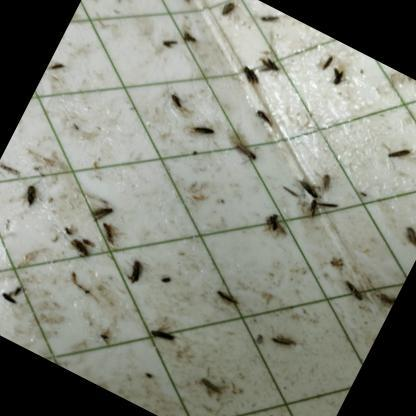prays_oleae: (220, 132, 264, 178), (256, 203, 295, 245), (264, 319, 302, 360), (379, 134, 415, 174), (334, 276, 370, 314), (192, 366, 227, 403), (186, 110, 220, 147), (144, 319, 178, 354), (212, 280, 245, 316), (17, 176, 48, 214), (63, 232, 98, 264), (252, 5, 284, 40), (313, 41, 340, 80), (324, 58, 351, 96), (160, 87, 191, 120), (84, 198, 113, 232), (211, 0, 247, 27), (251, 54, 280, 86), (248, 102, 280, 130), (95, 218, 122, 250), (296, 176, 326, 204), (234, 64, 264, 90), (314, 193, 344, 218), (154, 30, 182, 56), (372, 284, 398, 312), (310, 166, 336, 194), (175, 21, 199, 50), (400, 216, 416, 248), (302, 197, 322, 219), (169, 0, 201, 11), (394, 71, 416, 87)
